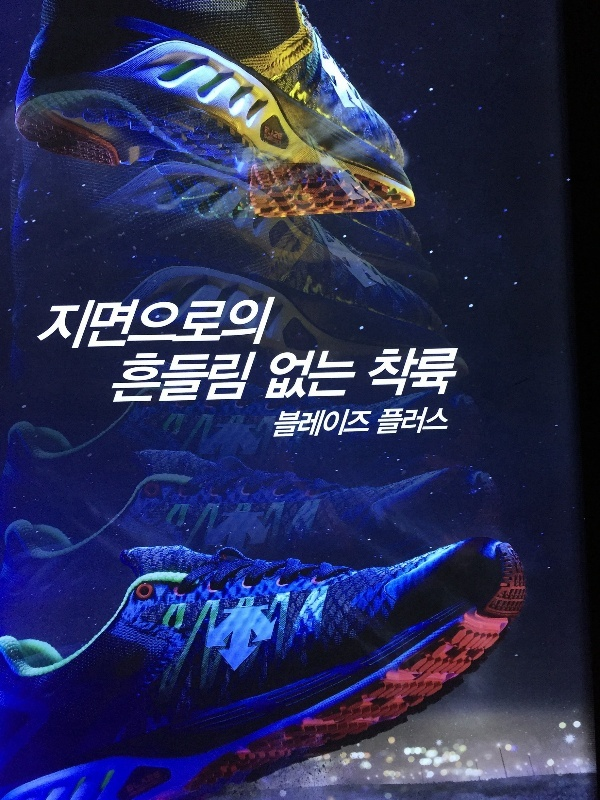text: (449, 342, 465, 402), (129, 349, 144, 411), (145, 349, 160, 411), (161, 349, 176, 411), (177, 349, 192, 411), (193, 349, 208, 411), (209, 349, 224, 411), (225, 349, 240, 411), (241, 349, 256, 411), (289, 344, 304, 405), (305, 344, 320, 405), (321, 344, 336, 405), (337, 344, 352, 405), (385, 342, 400, 402), (401, 342, 416, 402), (417, 342, 432, 402), (433, 342, 448, 402), (49, 294, 64, 353), (65, 294, 80, 353), (81, 294, 96, 353), (97, 294, 112, 353), (113, 294, 128, 353), (129, 294, 144, 353), (145, 294, 160, 353), (161, 294, 176, 353), (177, 294, 192, 353), (193, 294, 208, 353), (209, 294, 224, 353), (225, 294, 240, 353), (241, 294, 256, 353), (257, 294, 272, 353), (276, 344, 288, 405), (289, 406, 304, 445), (305, 406, 320, 445), (321, 406, 336, 445), (337, 406, 352, 445), (353, 406, 368, 445), (385, 405, 400, 442), (401, 405, 416, 442), (417, 405, 432, 442), (433, 405, 448, 442), (353, 344, 362, 405), (377, 342, 384, 402), (273, 294, 279, 353), (279, 406, 288, 445), (123, 349, 128, 411), (369, 406, 374, 445), (257, 349, 259, 411), (381, 405, 384, 442), (449, 405, 451, 442)
